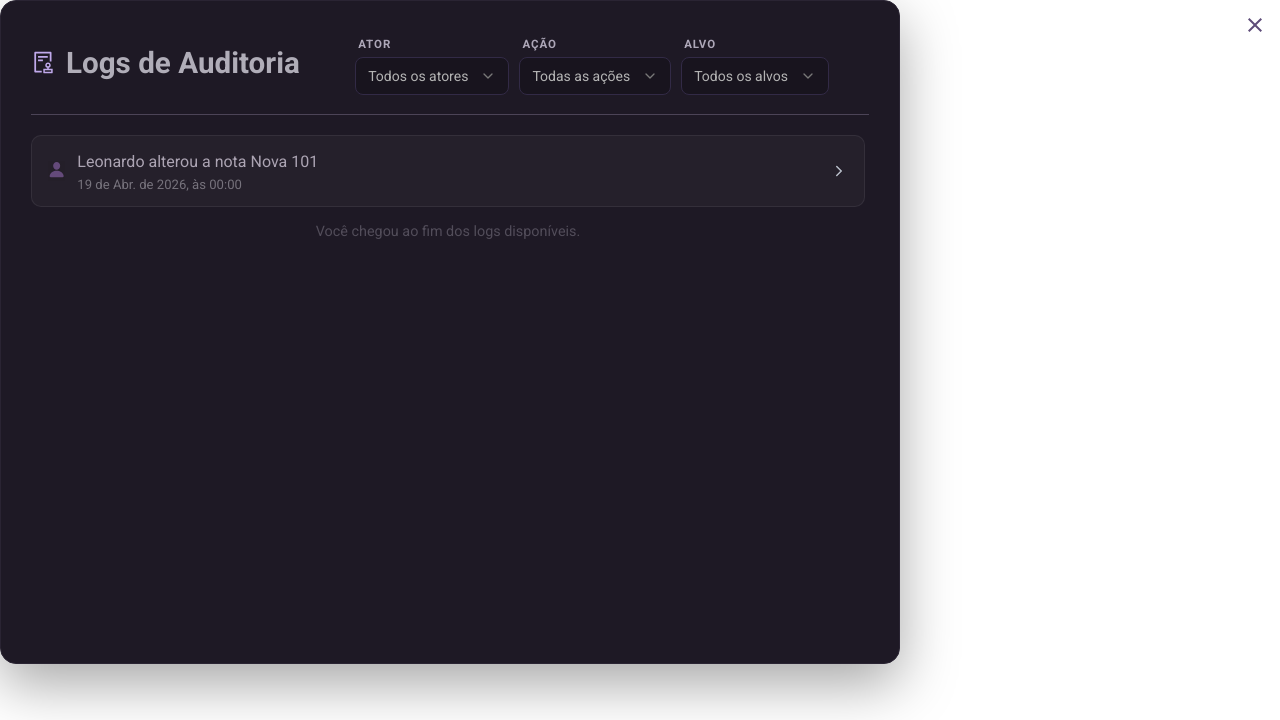
it: AuditLogsModal › renders a compact i18n summary row and expands change details
Click the button "Leonardo alterou a nota Nova 101".
click(198, 162)  # box [32,136,864,206]
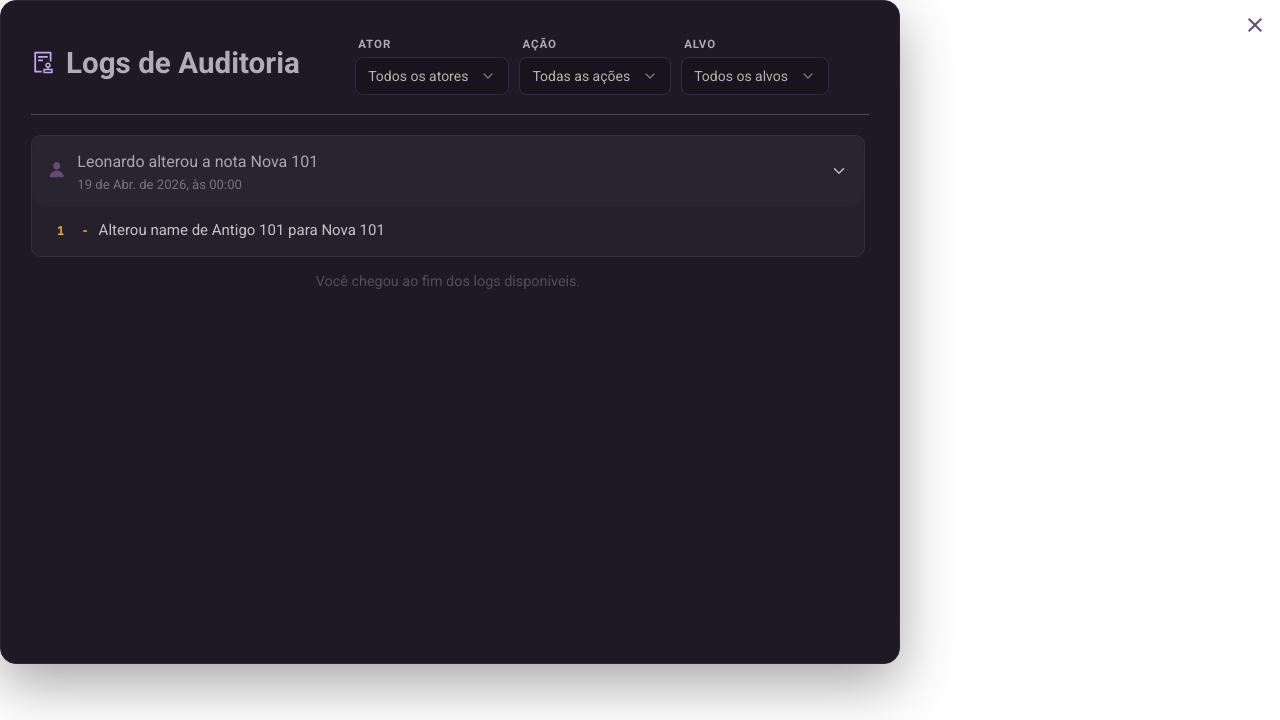
expect the text "Alterou name de Antigo 101 para Nova 101" is shown: met, box [99,220,385,242]
